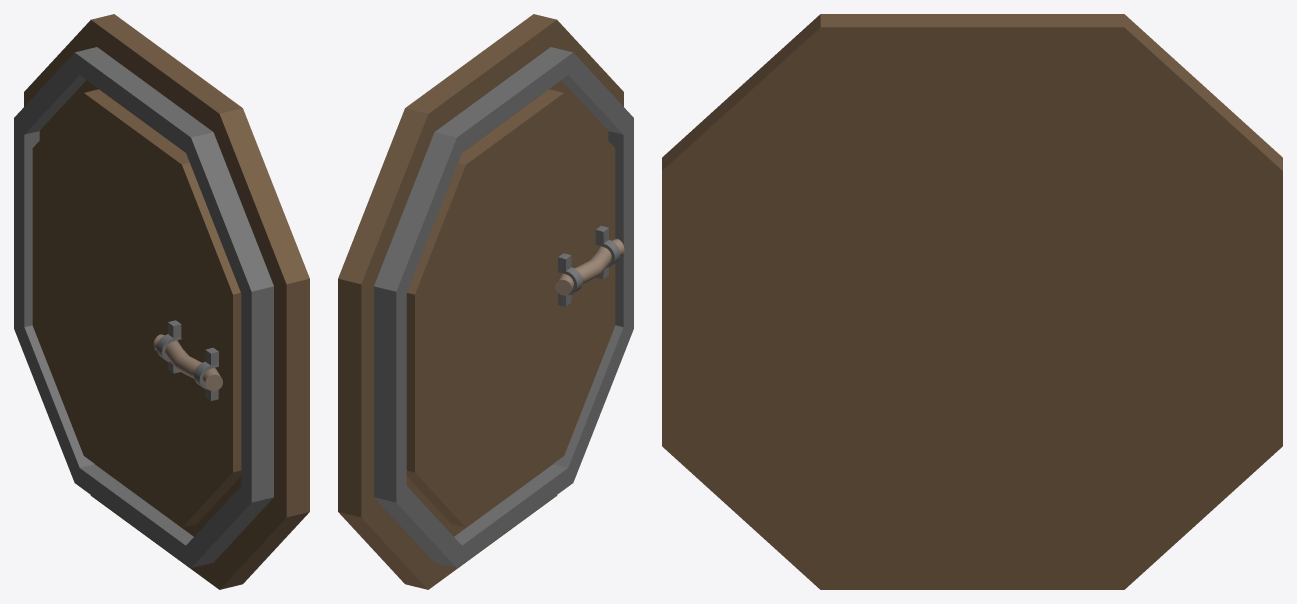
Rendered from door_04.fbx.
The picture shows the model from 3 angles, left to right: view 1: azimuth 30°, elevation 25°; view 2: azimuth 150°, elevation 25°; view 3: azimuth 270°, elevation 25°; orthographic projection. The views are drawn at different scales.
Visible parts, largest first — view 1: pCube8, rope_handle1; view 2: pCube8, rope_handle1; view 3: pCube8.
Boxes of the visible parts, x1=… form: pCube8: x1=14, y1=14, x2=309, y2=589; rope_handle1: x1=153, y1=320, x2=222, y2=400; pCube8: x1=338, y1=14, x2=633, y2=589; rope_handle1: x1=555, y1=225, x2=624, y2=306; pCube8: x1=662, y1=14, x2=1282, y2=589.
Bounding box in the file's own units: 44.92 × 303 × 303.
